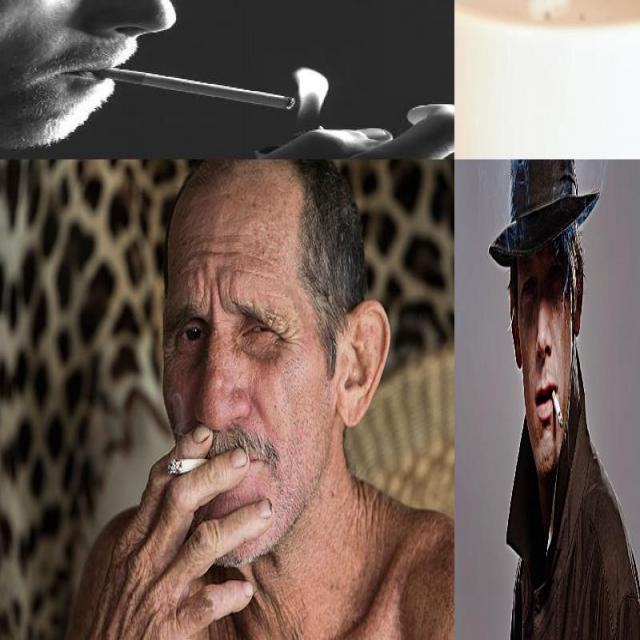cigarette: (82, 423, 267, 640), (81, 64, 296, 110), (548, 376, 564, 434)
